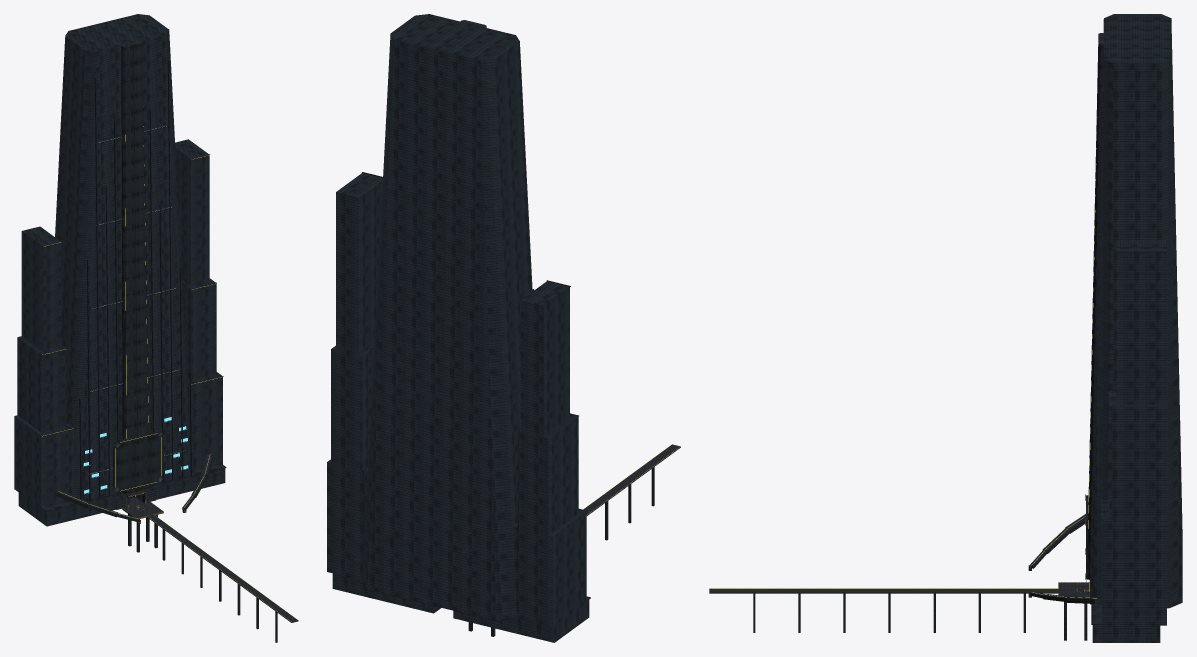
Rendered from end2-hq.glb.
The picture shows the model from 3 angles, left to right: view 1: azimuth 30°, elevation 25°; view 2: azimuth 150°, elevation 25°; view 3: azimuth 270°, elevation 25°; orthographic projection. The views are drawn at different scales.
Visible parts, largest first — view 1: hq_facade, hq_gunmetal, hq_deck, hq_glow_warm; view 2: hq_facade, hq_deck, hq_gunmetal; view 3: hq_facade, hq_gunmetal, hq_deck.
Boxes of the visible parts, left/top/right/bottom form: hq_facade: left=14, top=14, right=225, bottom=526; hq_gunmetal: left=41, top=39, right=277, bottom=642; hq_deck: left=122, top=497, right=298, bottom=622; hq_glow_warm: left=42, top=126, right=294, bottom=620; hq_facade: left=327, top=14, right=589, bottom=642; hq_deck: left=583, top=444, right=680, bottom=515; hq_gunmetal: left=362, top=20, right=654, bottom=636; hq_facade: left=1092, top=14, right=1182, bottom=642; hq_gunmetal: left=753, top=33, right=1116, bottom=640; hq_deck: left=709, top=582, right=1090, bottom=596.
Bounding box in the file's own units: 1124 × 2916 × 2100.
12 materials, 6 textured.
